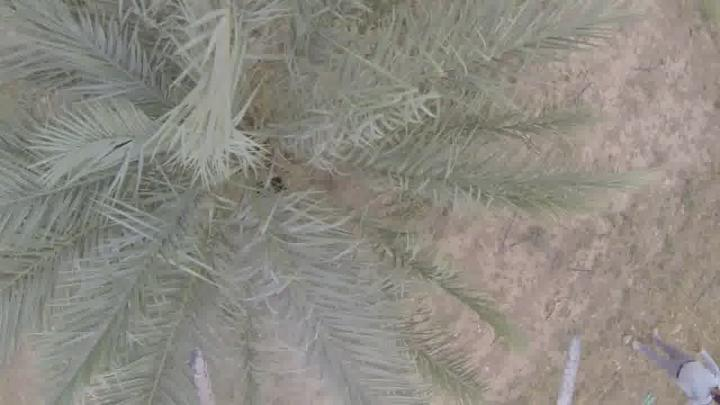Date-Palm-Crown: (22, 0, 466, 346)
